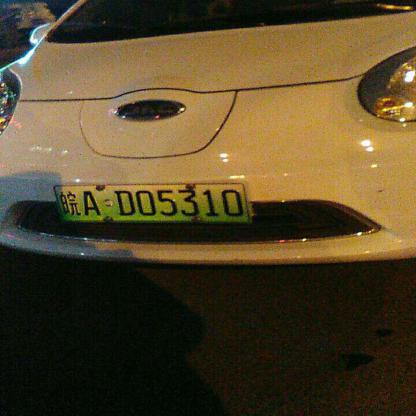lp: (53, 182, 64, 222)
